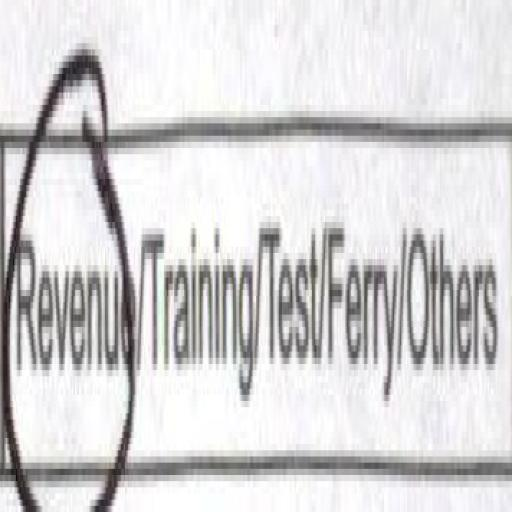check: (0, 37, 138, 512)
